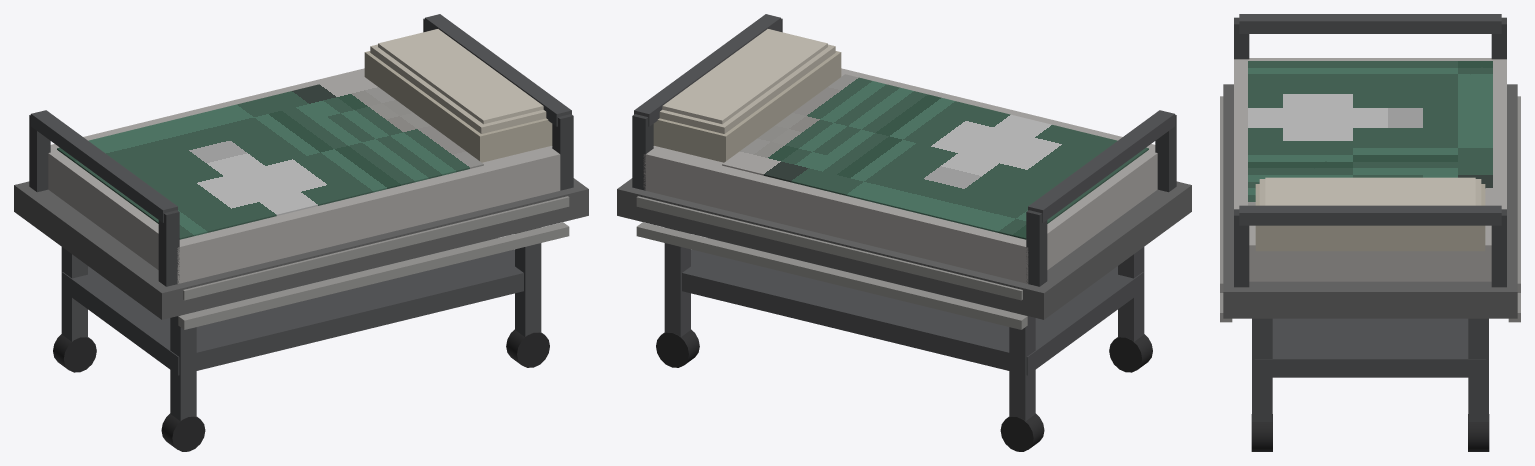
File: CMU3DRMCRollerBedHospitalSheet2.glb
3 renders of one model, left to right at view 1: azimuth 30°, elevation 25°; view 2: azimuth 150°, elevation 25°; view 3: azimuth 270°, elevation 25°, orthographic.
Parts seen in each view (by area): view 1: Sheet source pixels, mattress, lower carriage, trolley deck, lowered side rail (×2), pillow face, end handle (×2), caster upright (×3), pillow, end handle post (×3), caster wheel (×3), pillow upper cushion; view 2: Sheet source pixels, mattress, lower carriage, trolley deck, lowered side rail (×2), pillow face, end handle (×2), caster upright (×3), pillow, end handle post (×3), caster wheel (×3), pillow upper cushion; view 3: Sheet source pixels, trolley deck, mattress, lower carriage, end handle (×2), pillow, pillow face, caster upright (×2), end handle post (×4), lowered side rail (×2), caster wheel (×2), pillow upper cushion.
Boxes of the visible parts, bbox=[...] form: Sheet source pixels: bbox=[57, 74, 483, 239]; mattress: bbox=[48, 68, 560, 283]; lower carriage: bbox=[62, 238, 523, 375]; trolley deck: bbox=[14, 178, 588, 319]; lowered side rail (×2): bbox=[178, 196, 569, 329]; pillow face: bbox=[378, 29, 543, 124]; end handle (×2): bbox=[31, 14, 571, 222]; caster upright (×3): bbox=[61, 228, 541, 420]; pillow: bbox=[364, 51, 552, 162]; end handle post (×3): bbox=[29, 114, 573, 286]; caster wheel (×3): bbox=[53, 329, 549, 451]; pillow upper cushion: bbox=[370, 44, 546, 133]; Sheet source pixels: bbox=[722, 74, 1148, 239]; mattress: bbox=[643, 68, 1157, 283]; lower carriage: bbox=[682, 238, 1143, 375]; trolley deck: bbox=[617, 178, 1191, 319]; lowered side rail (×2): bbox=[636, 196, 1027, 329]; pillow face: bbox=[662, 29, 827, 124]; end handle (×2): bbox=[634, 14, 1174, 222]; caster upright (×3): bbox=[664, 228, 1144, 420]; pillow: bbox=[653, 51, 841, 162]; end handle post (×3): bbox=[632, 114, 1176, 286]; caster wheel (×3): bbox=[656, 329, 1152, 451]; pillow upper cushion: bbox=[659, 44, 835, 133]; Sheet source pixels: bbox=[1248, 61, 1492, 205]; trolley deck: bbox=[1223, 84, 1517, 318]; mattress: bbox=[1234, 58, 1506, 281]; lower carriage: bbox=[1254, 318, 1486, 377]; end handle (×2): bbox=[1239, 14, 1501, 225]; pillow: bbox=[1255, 184, 1485, 251]; pillow face: bbox=[1265, 177, 1475, 205]; caster upright (×2): bbox=[1252, 318, 1488, 421]; end handle post (×4): bbox=[1234, 17, 1506, 287]; lowered side rail (×2): bbox=[1220, 96, 1520, 292]; caster wheel (×2): bbox=[1251, 414, 1489, 451]; pillow upper cushion: bbox=[1259, 179, 1481, 205].
Size of the model in its own units: 0.954 by 0.542 by 0.584.
Materials: 10 (1 with a texture image).
